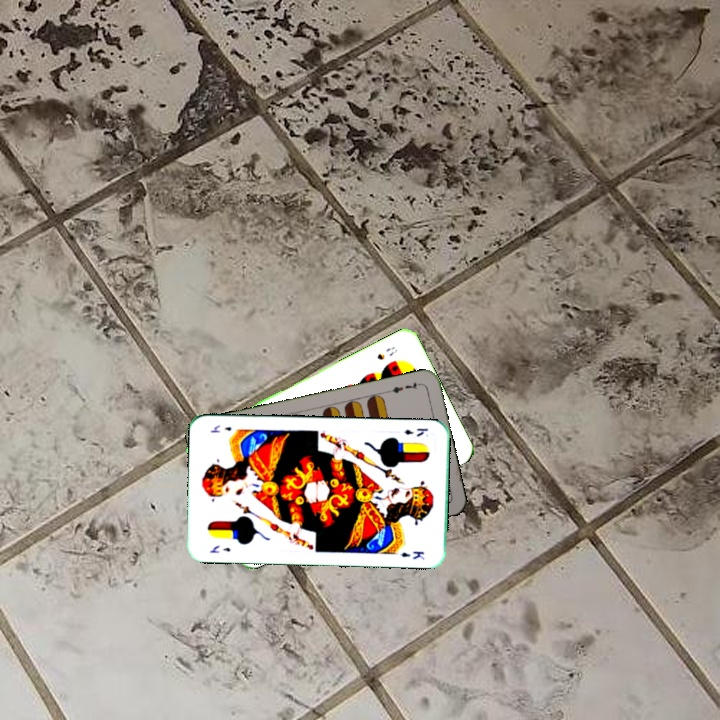E7: (384, 378, 424, 396)
EK: (400, 424, 430, 439), (205, 541, 233, 555)
S8: (373, 342, 400, 363)
